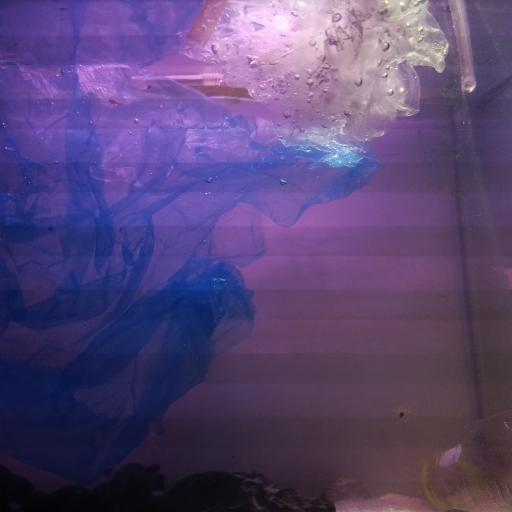plastic_bag: (0, 60, 380, 480), (175, 0, 450, 170)
plastic_bottle: (420, 412, 512, 512)
plastic_straw: (450, 0, 475, 92), (185, 0, 228, 47)
